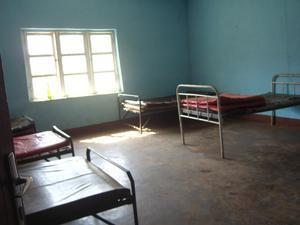Cama: (3, 147, 141, 223), (174, 76, 298, 159), (121, 84, 221, 134), (3, 118, 75, 167)
Ventana: (24, 33, 120, 94)
